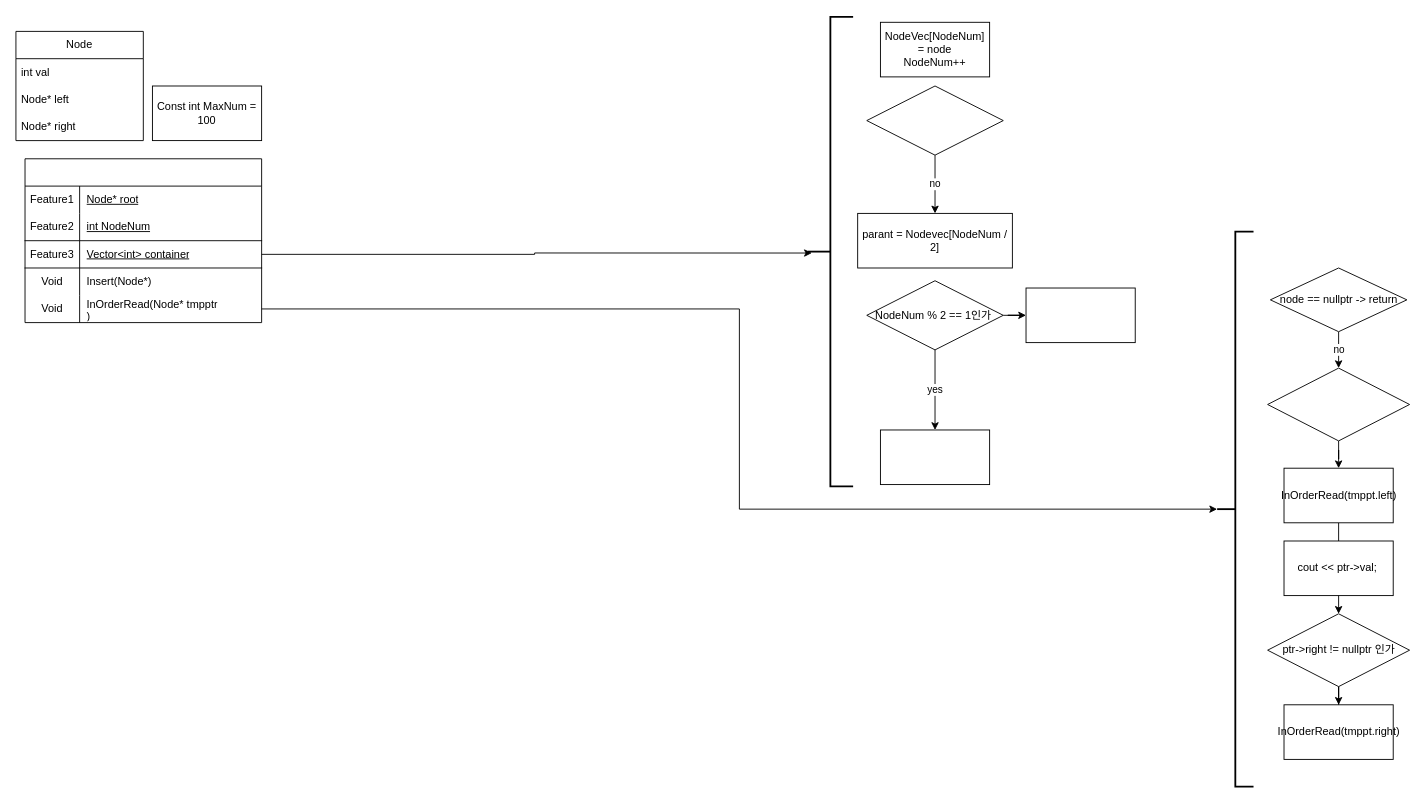
Image size: 1426x803. Some labels were removed from this diagram. Each missing label, with the box of its shape:
Graph: (24, 158, 262, 323)
NodeNum == 0인가: (866, 85, 1003, 155)
parent.left= node: (1025, 287, 1135, 343)
parent.right= node: (880, 429, 990, 485)
ptr->left != nullptr 인가: (1267, 367, 1410, 441)
